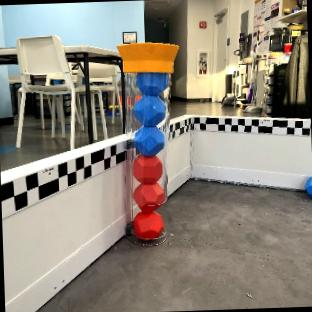Loader: (118, 41, 178, 246)
V5_BLUE: (135, 95, 165, 125), (134, 126, 164, 154), (137, 71, 167, 94)
V5_RED: (133, 154, 163, 185), (133, 209, 163, 239), (134, 182, 165, 210)
